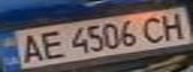0: (103, 20, 124, 51)
4: (66, 24, 90, 55)
5: (84, 21, 106, 53)
6: (118, 17, 142, 47)
A: (12, 32, 48, 65)
C: (136, 12, 172, 44)
E: (33, 28, 66, 61)
H: (154, 9, 190, 40)
